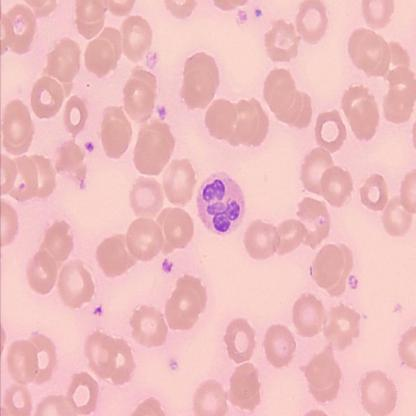Segmented neutrophil: (195, 170, 245, 236)
